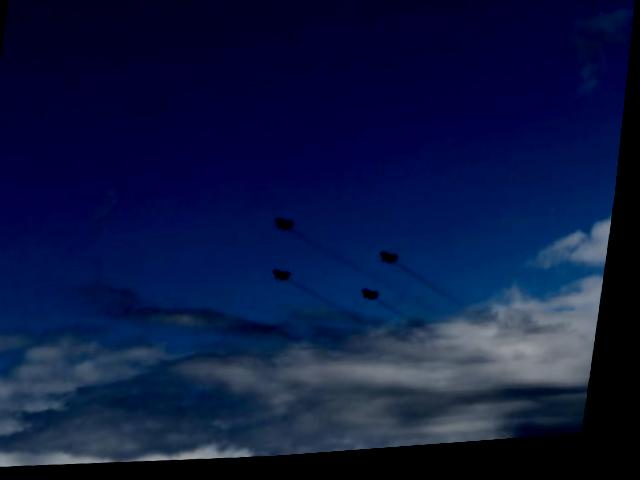flying wing: (381, 247, 408, 277), (278, 216, 301, 248), (358, 293, 387, 315), (274, 273, 303, 286)
